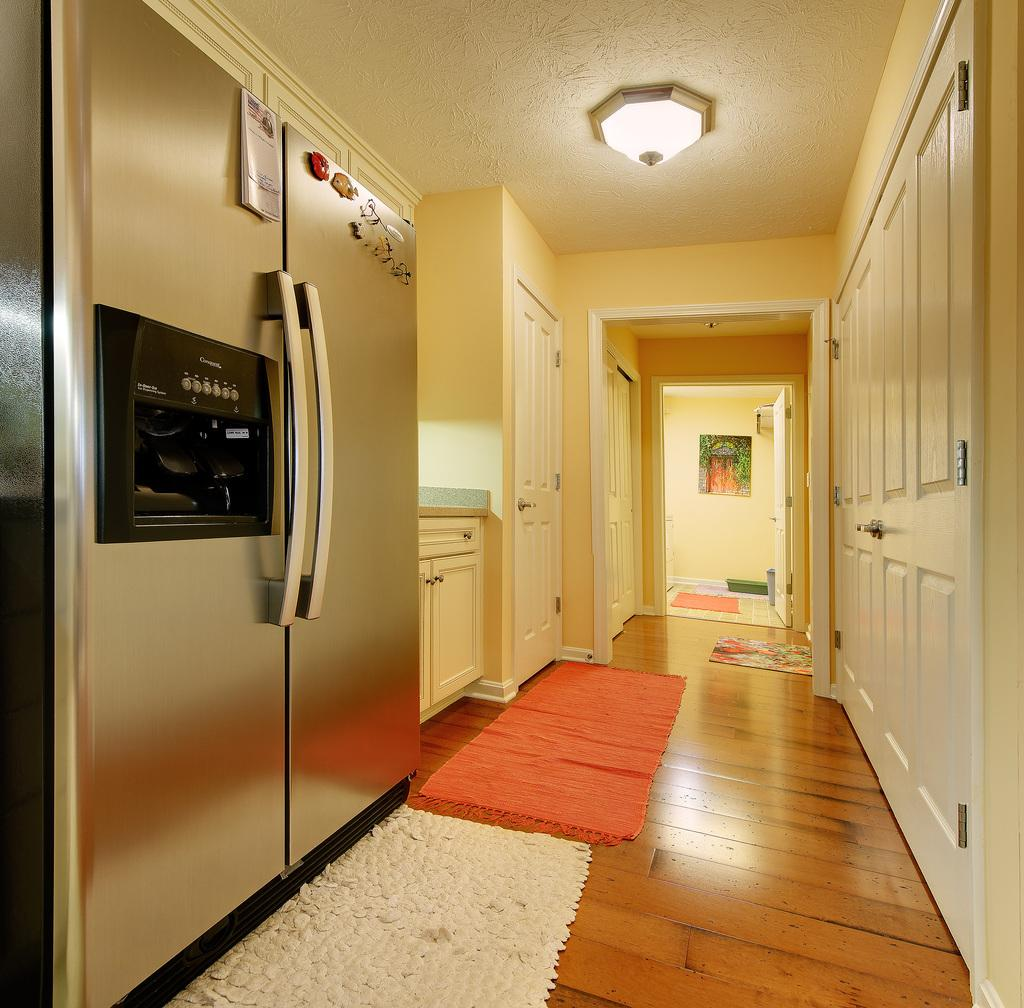cabinet_door: (431, 564, 480, 679)
handle: (254, 276, 308, 621), (293, 283, 335, 613), (858, 520, 882, 548), (520, 494, 538, 516), (434, 570, 444, 585)
